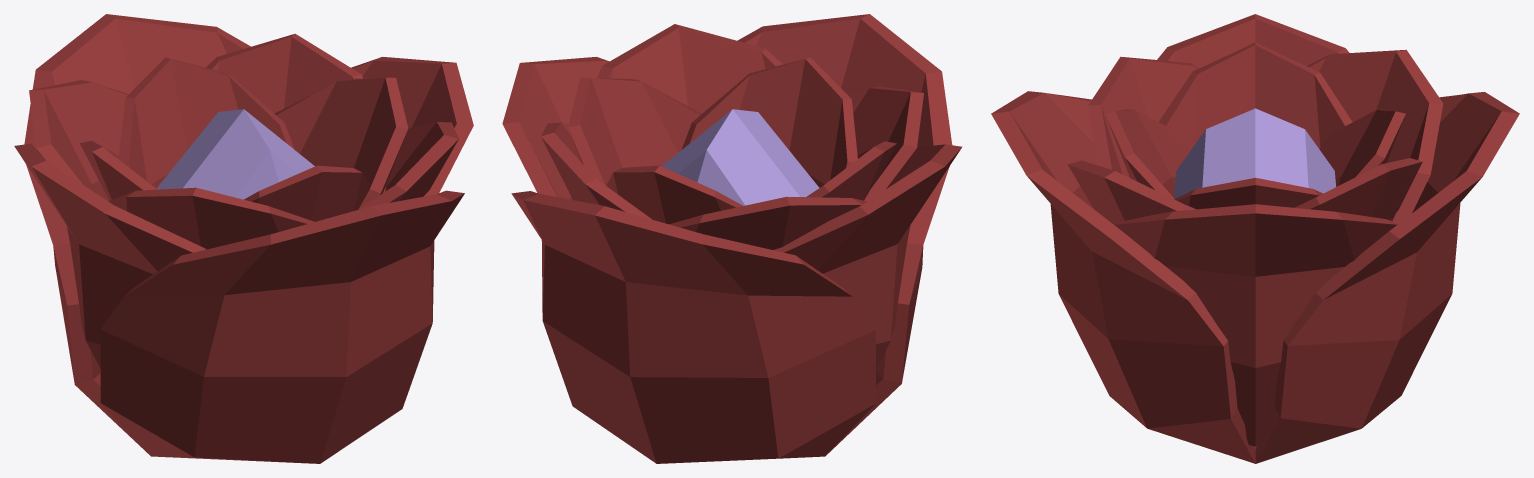
The model's file is cup_03.FBX.
3 renders of one model, left to right at view 1: azimuth 30°, elevation 25°; view 2: azimuth 150°, elevation 25°; view 3: azimuth 270°, elevation 25°, orthographic. The views are drawn at different scales.
Parts seen in each view (by area): view 1: cup_03; view 2: cup_03; view 3: cup_03.
Boxes of the visible parts, x1,y1,x2,y2 form: cup_03: (14,14,473,463); cup_03: (502,14,962,463); cup_03: (991,14,1519,463).
Bounding box in the file's own units: 125 × 97.88 × 140.
